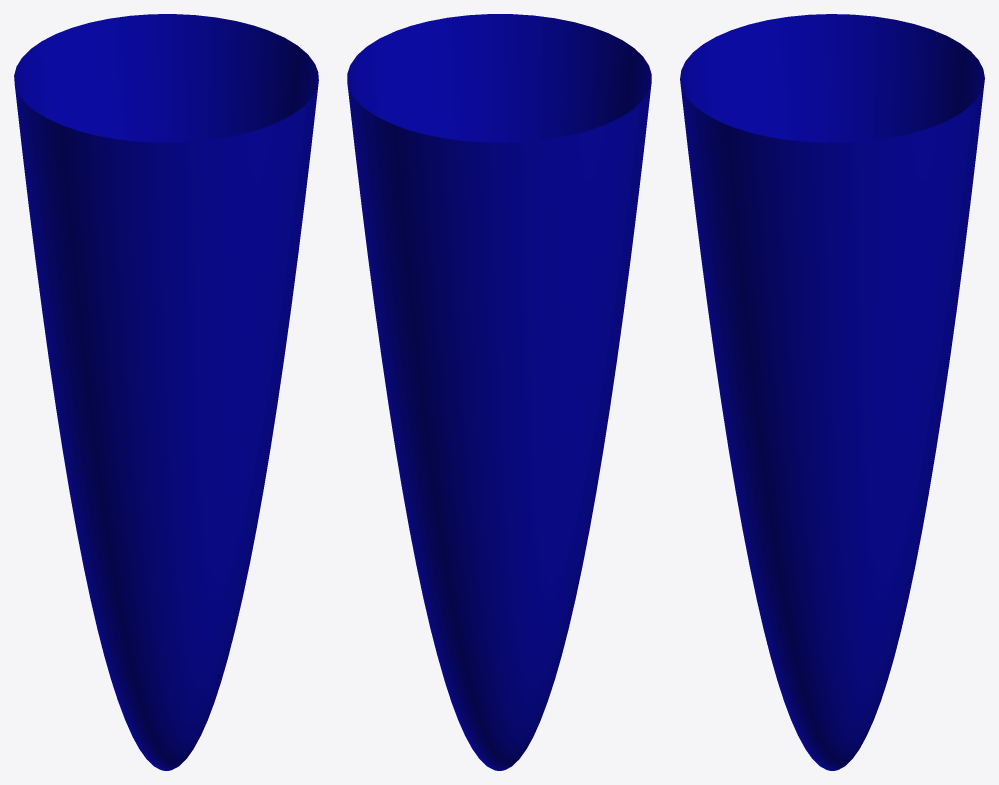
The model's file is superficie inflado.FBX.
3 views of the same model, side by side, from view 1: azimuth 30°, elevation 25°; view 2: azimuth 150°, elevation 25°; view 3: azimuth 270°, elevation 25° (orthographic).
Parts seen in each view (by area): view 1: superficie; view 2: superficie; view 3: superficie.
Boxes of the visible parts, x1,y1,x2,y2 form: superficie: (14,14,318,770); superficie: (347,14,651,770); superficie: (680,14,984,770).
Bounding box in the file's own units: 25.4 × 63.5 × 25.4.
